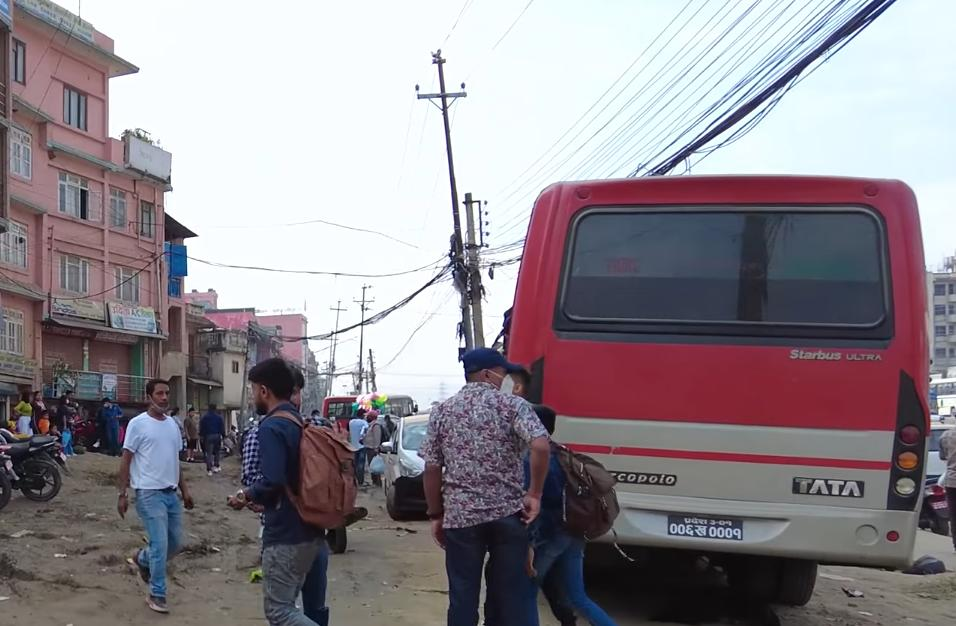bus: (485, 164, 936, 598)
